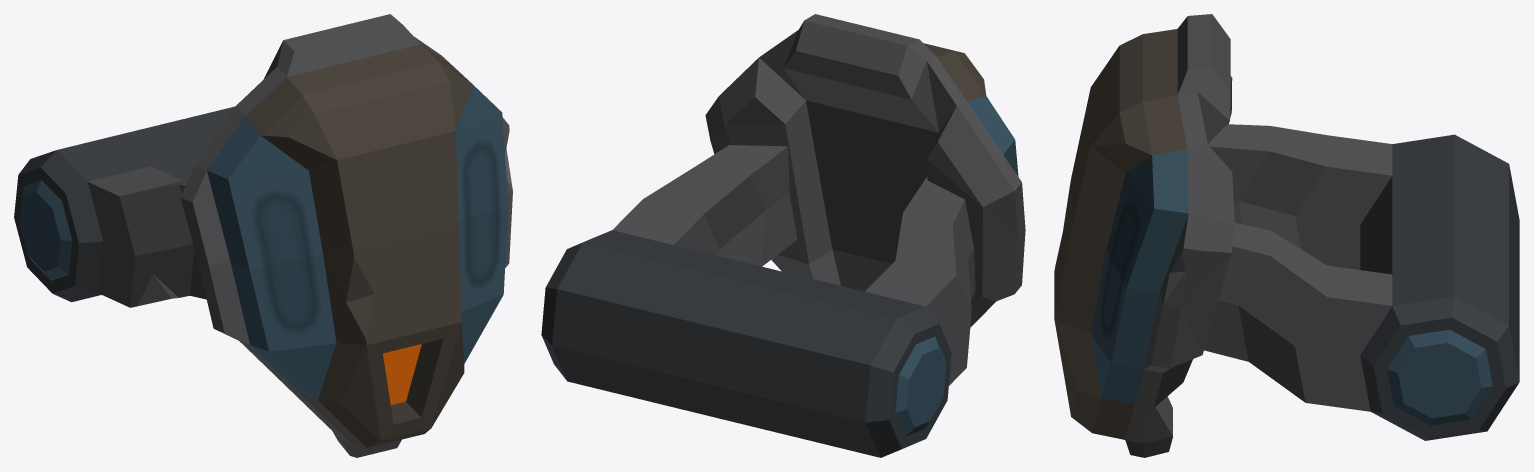
The model's file is SM_Mech_Leg_01_Armor_Kneepad_04.fbx.
The picture shows the model from 3 angles, left to right: view 1: azimuth 30°, elevation 25°; view 2: azimuth 150°, elevation 25°; view 3: azimuth 270°, elevation 25°; orthographic projection. The views are drawn at different scales.
Visible parts, largest first — view 1: SM_Mech_Leg_01_Armor_Kneepad_04; view 2: SM_Mech_Leg_01_Armor_Kneepad_04; view 3: SM_Mech_Leg_01_Armor_Kneepad_04.
Part boxes in pixels (bbox=[...]): SM_Mech_Leg_01_Armor_Kneepad_04: bbox=[14, 14, 512, 457]; SM_Mech_Leg_01_Armor_Kneepad_04: bbox=[541, 14, 1025, 457]; SM_Mech_Leg_01_Armor_Kneepad_04: bbox=[1054, 14, 1519, 457].
Bounding box in the file's own units: 58.77 × 60.06 × 62.18.
